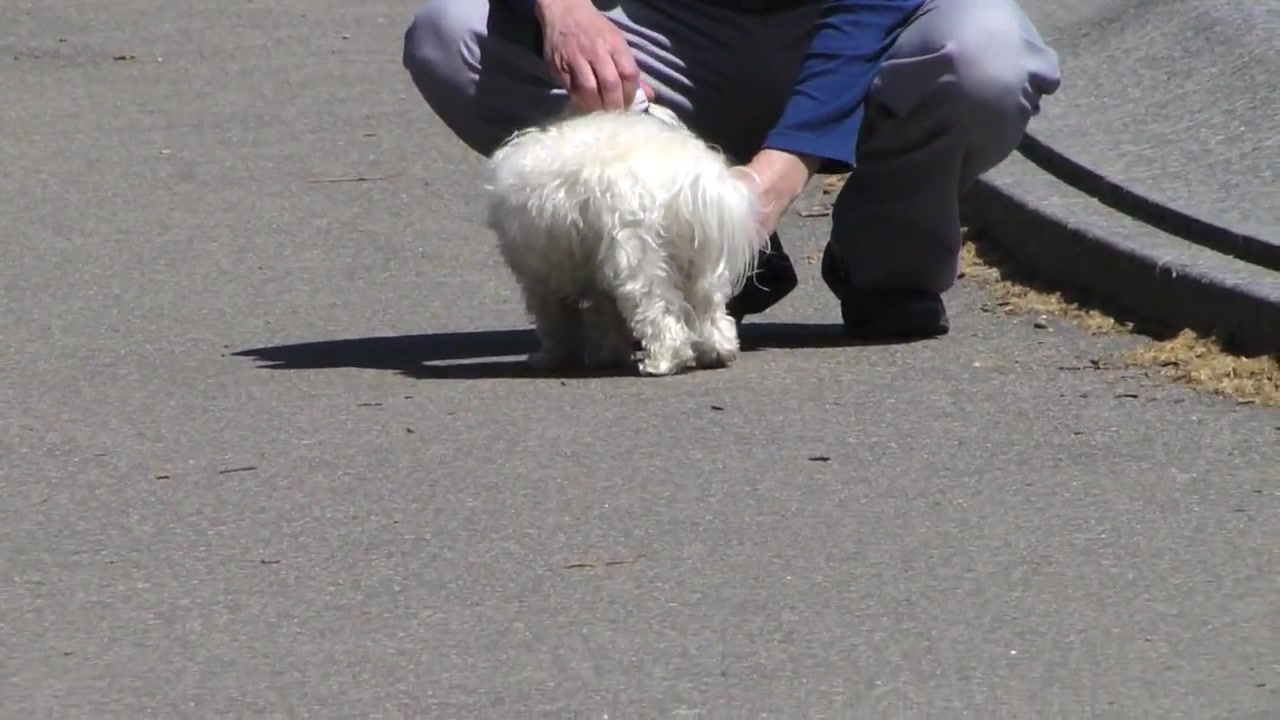dog: (486, 112, 761, 381)
